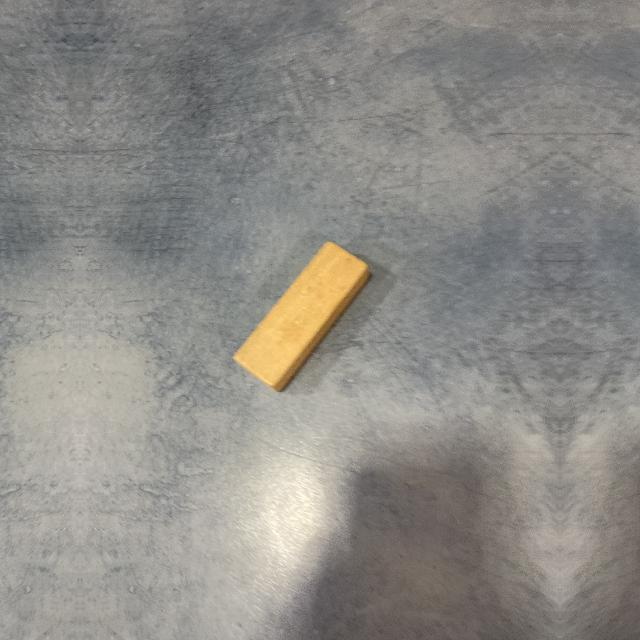jenga: (231, 240, 374, 394)
